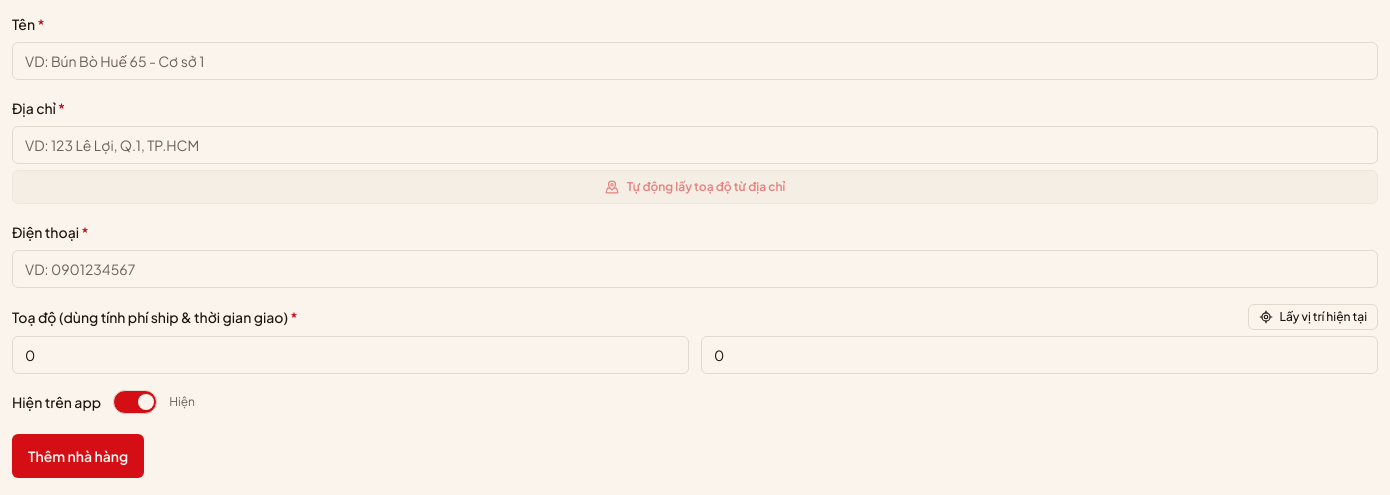
Test case: RestaurantForm — toạ độ (lat/lng) › fills lat/lng from navigator.geolocation when 'Lấy vị trí hiện tại' is clicked
Click the button with test id "restaurant.form.locate_button" at (1313, 317), box [1248,304,1378,330]
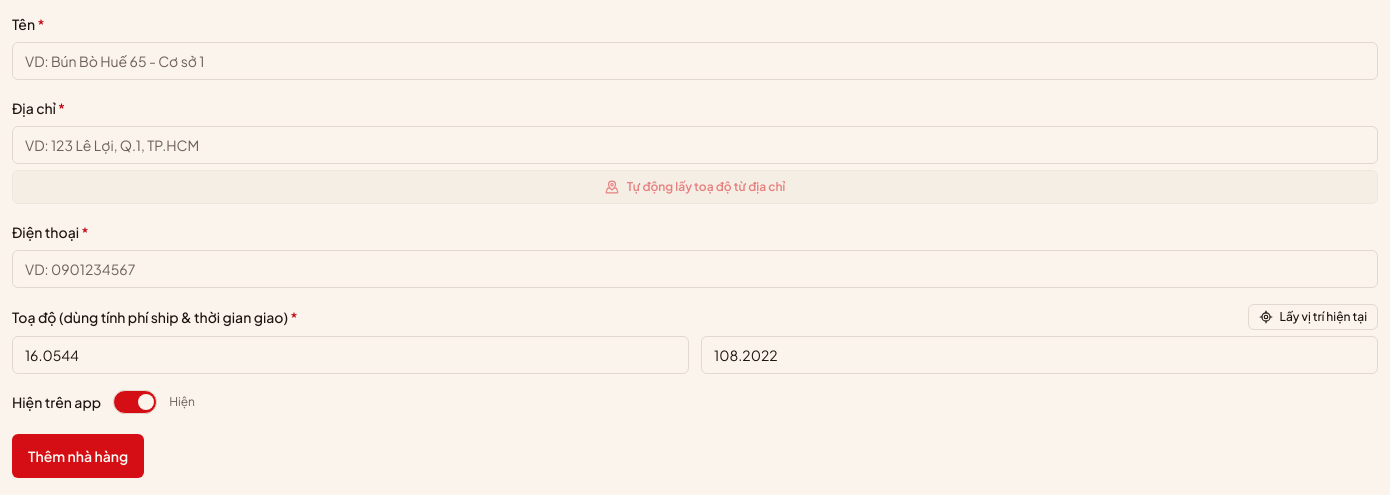
Expected: the number field with test id "restaurant.form.lat_input" holds "16.0544", [12,336,689,374]
Expected: the number field with test id "restaurant.form.lng_input" holds "108.2022", [701,336,1378,374]
